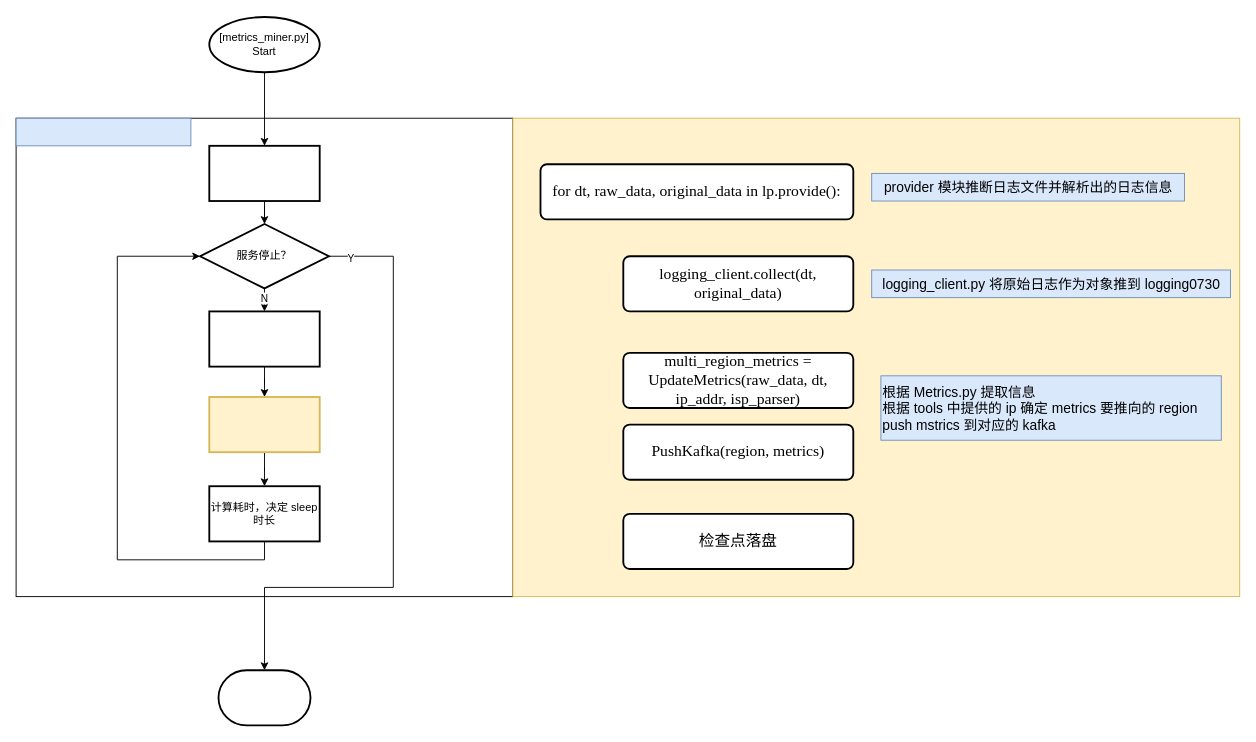
This 1256x742 diagram has some shape labels left out. The shapes that lost their labels are listed below. From the top down, each one's centre as x and y in pixels, then its label:
At point 103,131: "collect_task.py / CollectorTask()".
At point 264,172: "各种初始化".
At point 264,338: "计时开始".
At point 264,424: "日志处理".
At point 264,697: "Terminator".
